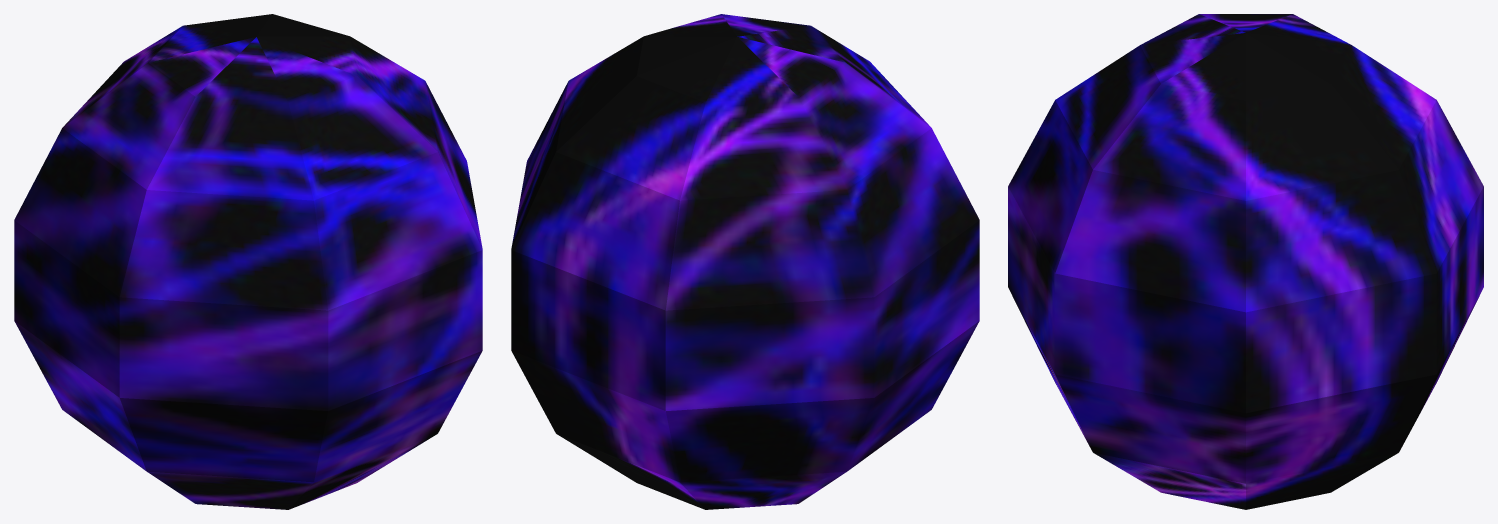
File: EnergyBlue.fbx
The picture shows the model from 3 angles, left to right: view 1: azimuth 30°, elevation 25°; view 2: azimuth 150°, elevation 25°; view 3: azimuth 270°, elevation 25°; orthographic projection.
Visible parts, largest first — view 1: Energy; view 2: Energy; view 3: Energy.
Part boxes in pixels (box(x1,y1,x2,y2)): Energy: box(14, 14, 482, 509); Energy: box(511, 14, 979, 509); Energy: box(1008, 14, 1483, 509).
Bounding box in the file's own units: 1.85 × 2 × 1.9.
